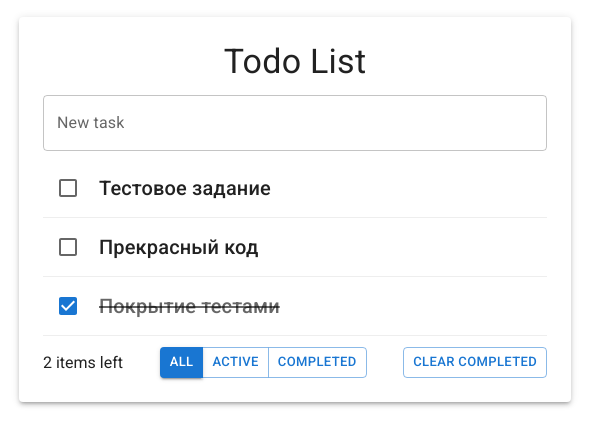
Test case: TodoApp › Фильтрует выполненные задачи
Click the button "Completed" at (317,362), box [268, 347, 366, 378]
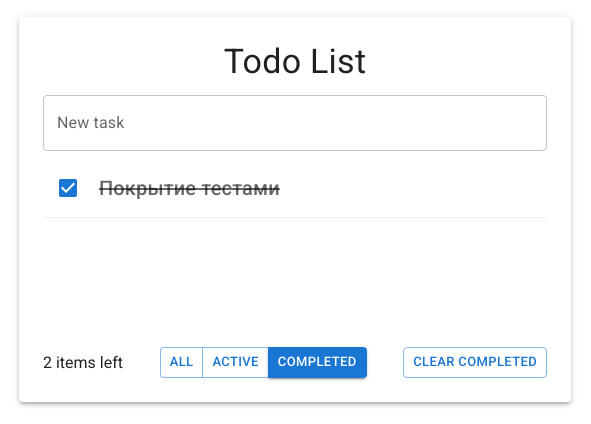
Expected: the heading "Покрытие тестами" is shown, [99, 176, 280, 200]
Now the heading "Тестовое задание" is gone
